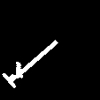double_crochet: (2, 40, 57, 87)
